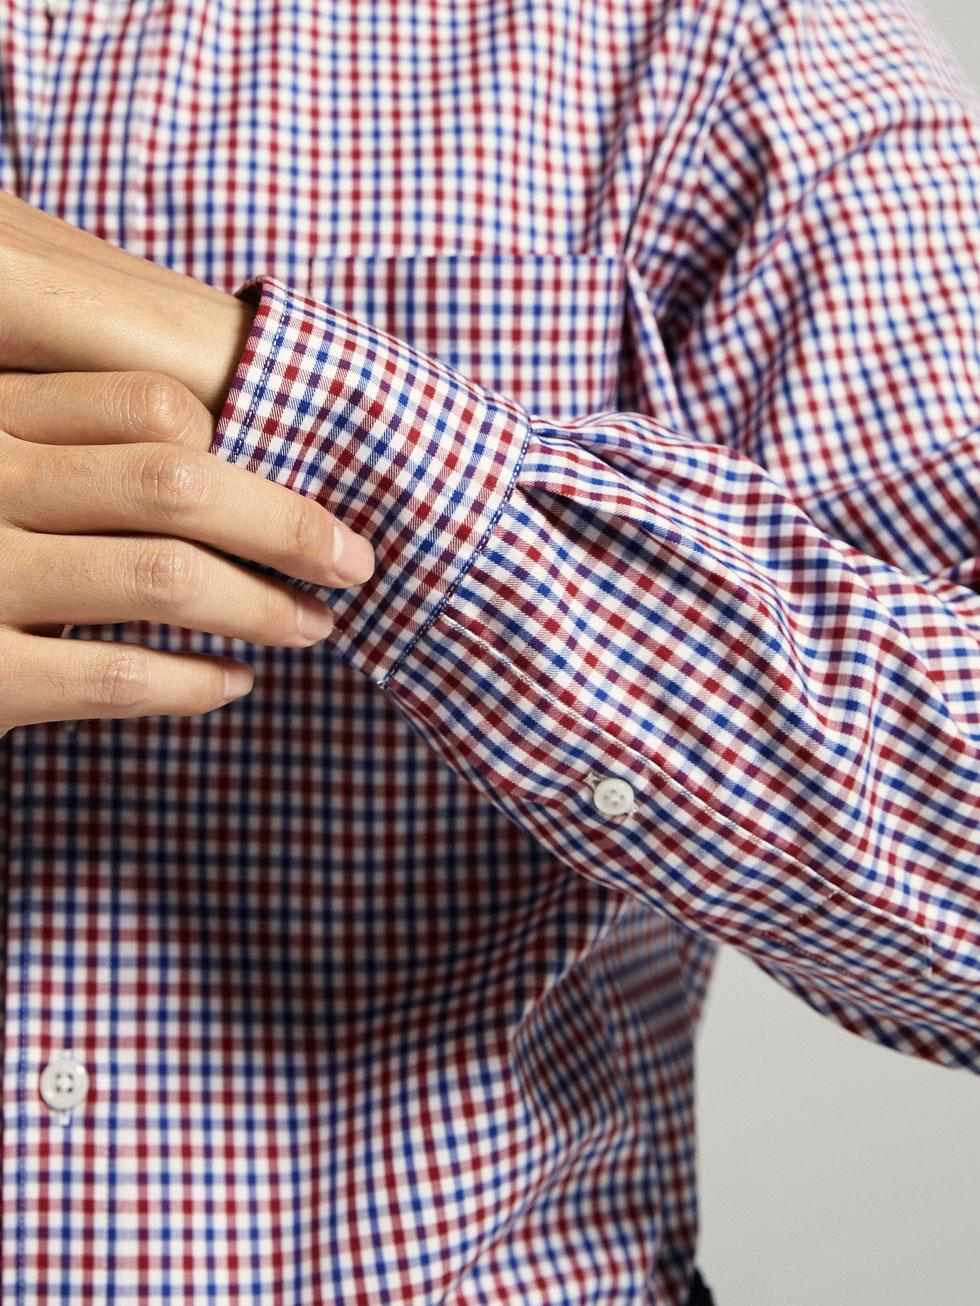teeshirt: (1, 5, 967, 1285)
